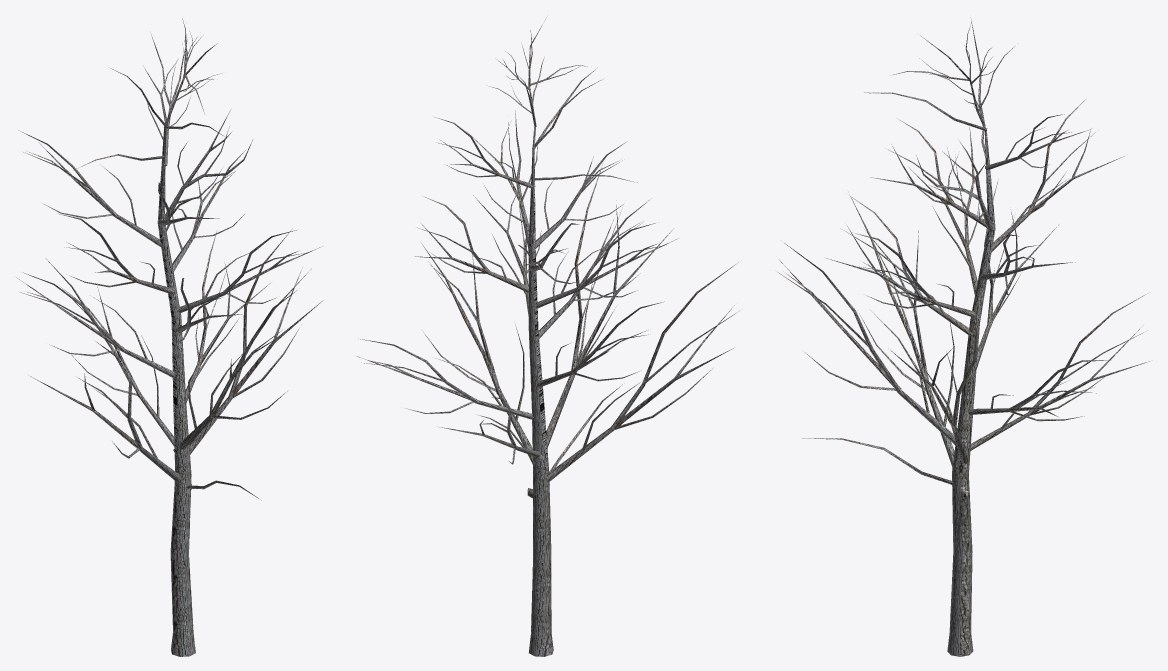
3 views of the same model, side by side, from view 1: azimuth 30°, elevation 25°; view 2: azimuth 150°, elevation 25°; view 3: azimuth 270°, elevation 25° (orthographic).
Parts seen in each view (by area): view 1: trunk_001, branch1_009, branch1_023, branch1_025, branch1_021, branch1_017, branch1_027, branch1_011, branch1_001, branch1_013, branch1_005, branch1_003 (+3 smaller); view 2: trunk_001, branch1_023, branch1_021, branch1_009, branch1_011, branch1_013, branch1_003, branch1_025, branch1_015, branch1_005, branch1_007, branch1_027 (+2 smaller); view 3: trunk_001, branch1_021, branch1_023, branch1_027, branch1_009, branch1_017, branch1_015, branch1_011, branch1_013, branch1_001, branch1_007, branch1_025 (+3 smaller).
Boxes of the visible parts, x1,y1,x2,y2 form: trunk_001: [157, 43, 217, 656]; branch1_009: [189, 231, 323, 454]; branch1_023: [28, 341, 181, 483]; branch1_025: [16, 272, 175, 378]; branch1_021: [173, 290, 296, 452]; branch1_017: [18, 130, 161, 247]; branch1_027: [46, 259, 174, 446]; branch1_011: [185, 230, 270, 402]; branch1_001: [177, 230, 320, 313]; branch1_013: [58, 213, 176, 294]; branch1_005: [163, 110, 252, 226]; branch1_003: [172, 150, 245, 271]; trunk_001: [527, 17, 553, 656]; branch1_023: [547, 262, 738, 482]; branch1_021: [538, 164, 673, 458]; branch1_009: [421, 243, 534, 464]; branch1_011: [357, 338, 533, 419]; branch1_013: [536, 223, 676, 308]; branch1_003: [415, 196, 528, 292]; branch1_025: [537, 301, 664, 387]; branch1_015: [538, 198, 651, 338]; branch1_005: [467, 110, 537, 249]; branch1_007: [528, 142, 625, 249]; branch1_027: [439, 397, 540, 464]; trunk_001: [920, 35, 995, 656]; branch1_021: [778, 243, 970, 451]; branch1_023: [848, 192, 954, 467]; branch1_027: [970, 293, 1149, 450]; branch1_009: [888, 317, 977, 464]; branch1_017: [989, 99, 1124, 251]; branch1_015: [826, 195, 972, 335]; branch1_011: [968, 360, 1110, 421]; branch1_013: [909, 127, 978, 294]; branch1_001: [852, 232, 975, 317]; branch1_007: [871, 118, 993, 228]; branch1_025: [976, 179, 1059, 369].
Size of the model in its own units: 127 by 242 by 132.
1 material, 1 textured.
